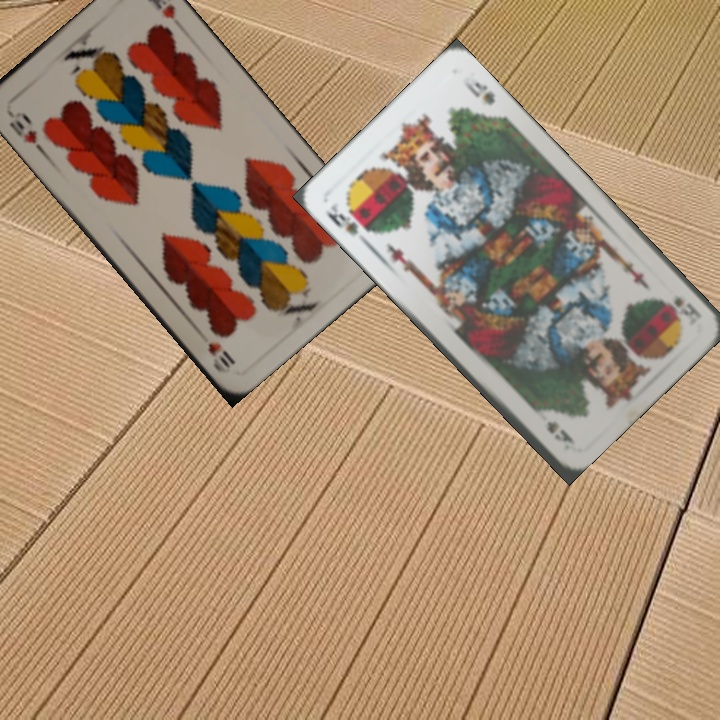H10: (2, 105, 46, 154)
SK: (321, 198, 372, 239), (657, 292, 704, 328)
